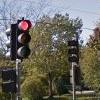Traffic light: (5, 12, 36, 73)
